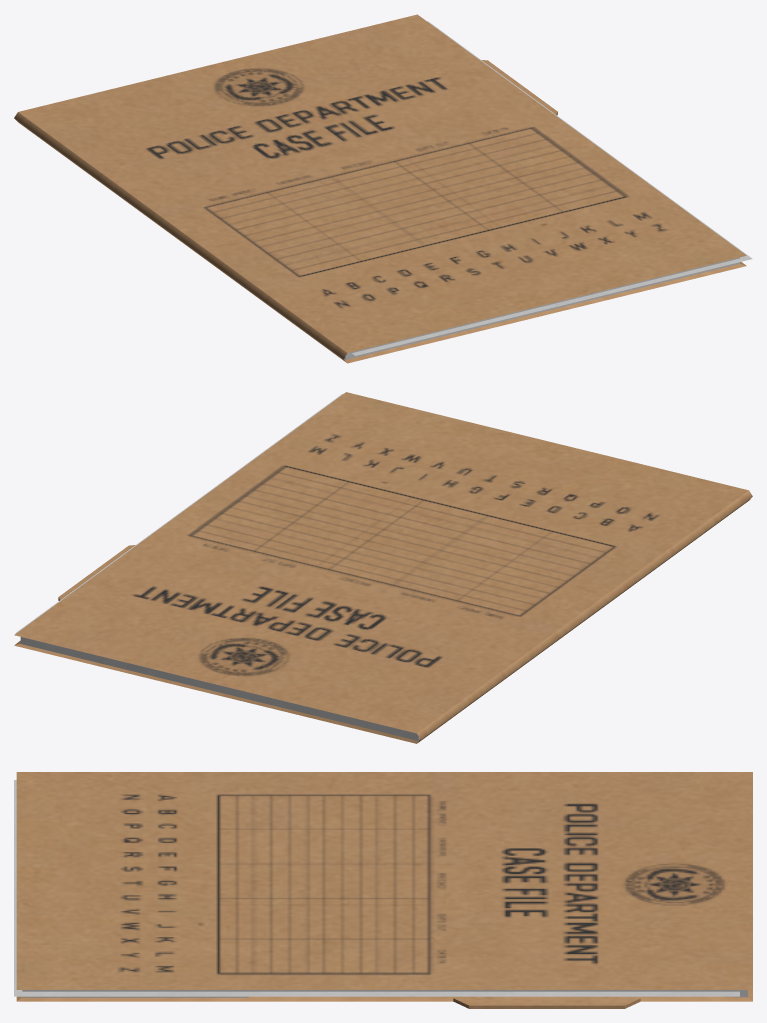
File: FolderA.fbx
The picture shows the model from 3 angles, top to bottom: view 1: azimuth 30°, elevation 25°; view 2: azimuth 150°, elevation 25°; view 3: azimuth 270°, elevation 25°; orthographic projection. The views are drawn at different scales.
Visible parts, largest first — view 1: FolderA; view 2: FolderA; view 3: FolderA.
Part boxes in pixels (left/top/right/bottom): FolderA: left=14, top=14, right=752, bottom=363; FolderA: left=14, top=392, right=752, bottom=743; FolderA: left=14, top=772, right=752, bottom=1008.
Size of the model in its own units: 22.01 by 0.5223 by 30.24.
